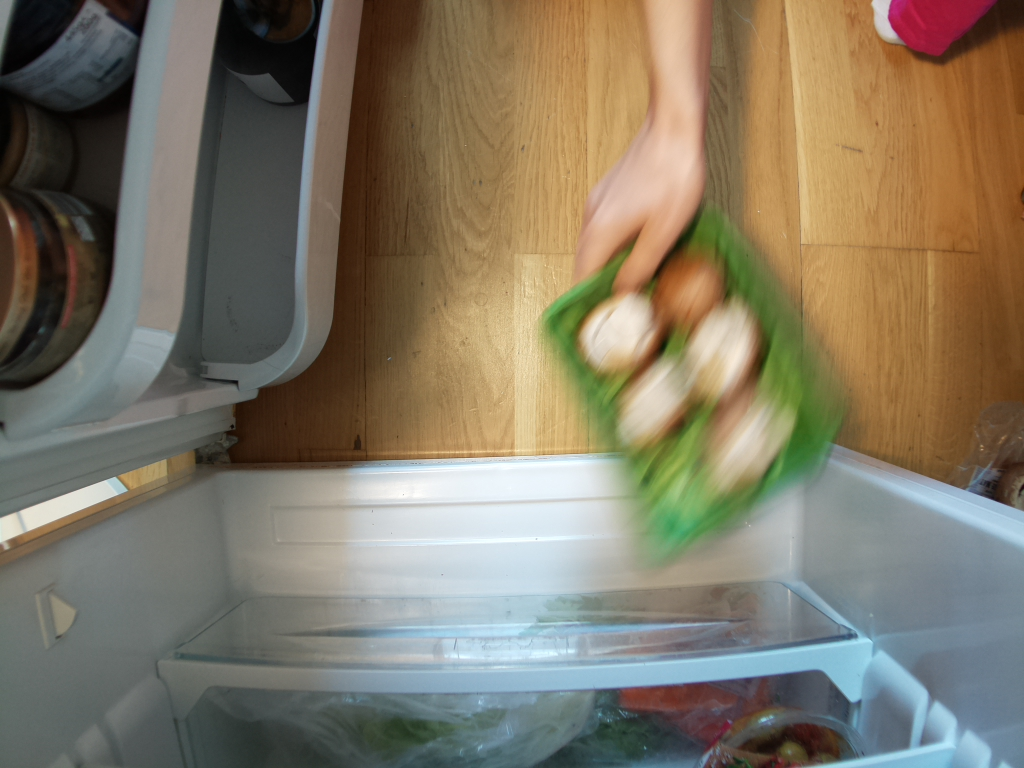mushrooms: (541, 193, 839, 542)
